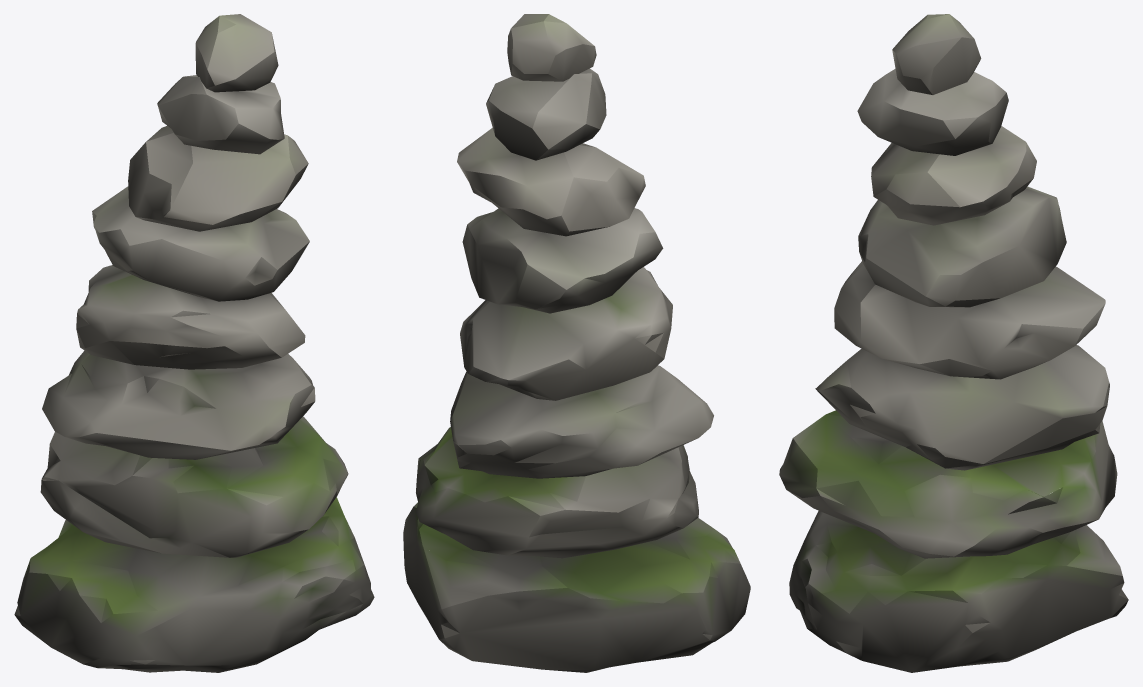
Rendered from land-stoneCairn-low.glb.
3 views of the same model, side by side, from view 1: azimuth 30°, elevation 25°; view 2: azimuth 150°, elevation 25°; view 3: azimuth 270°, elevation 25° (orthographic). The views are drawn at different scales.
Parts seen in each view (by area): view 1: 0_stoneCairn; view 2: 0_stoneCairn; view 3: 0_stoneCairn.
Boxes of the visible parts, bbox=[...] form: 0_stoneCairn: bbox=[14, 14, 374, 672]; 0_stoneCairn: bbox=[403, 14, 750, 672]; 0_stoneCairn: bbox=[779, 14, 1128, 672].
Size of the model in its own units: 0.855 by 1.54 by 0.7948.
